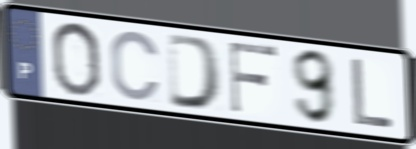9: (289, 48, 339, 126)
C: (108, 28, 163, 104)
D: (165, 31, 225, 113)
F: (227, 40, 280, 116)
L: (349, 56, 396, 131)
O: (49, 20, 103, 98)
